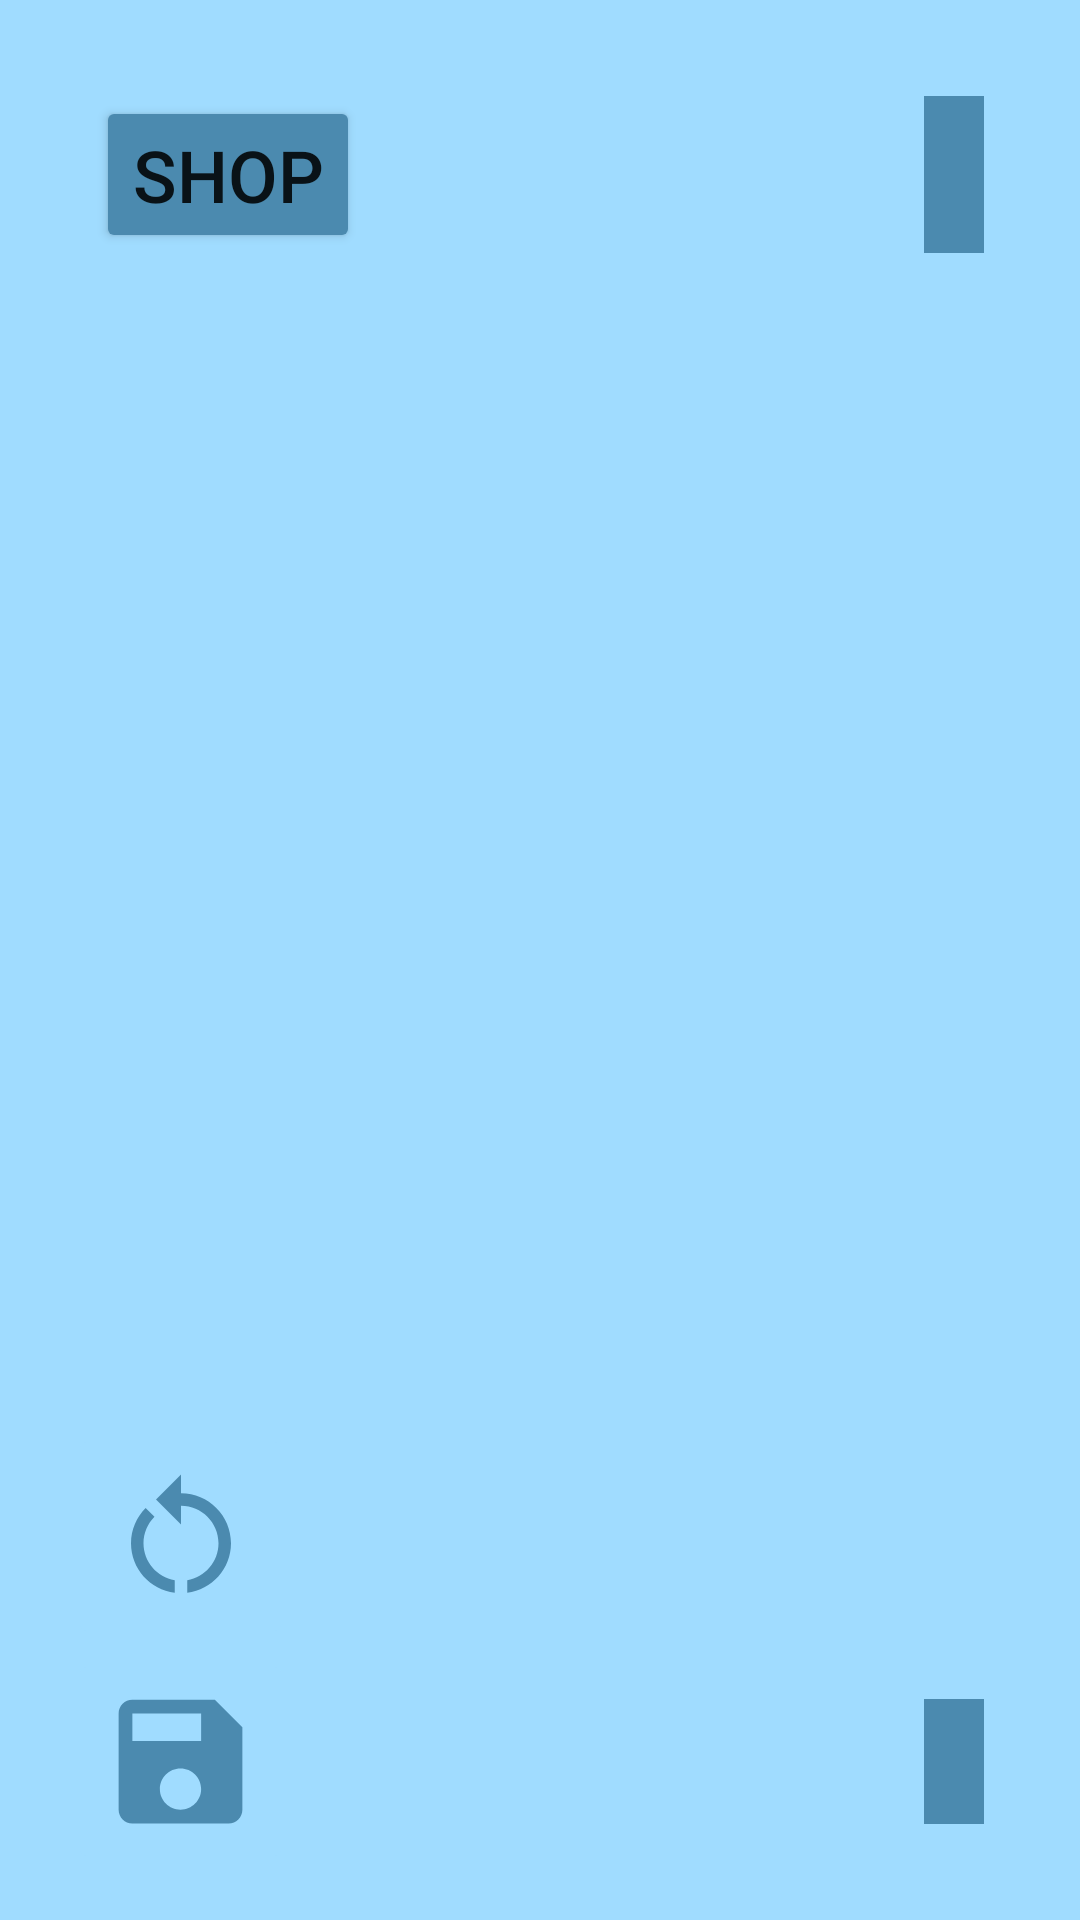

Icon bounding boxes for this 1080w x 1920h phone screenshot, format (x1, y1, x2, y2):
restart: (131, 1475, 231, 1593)
save: (118, 1700, 243, 1824)
